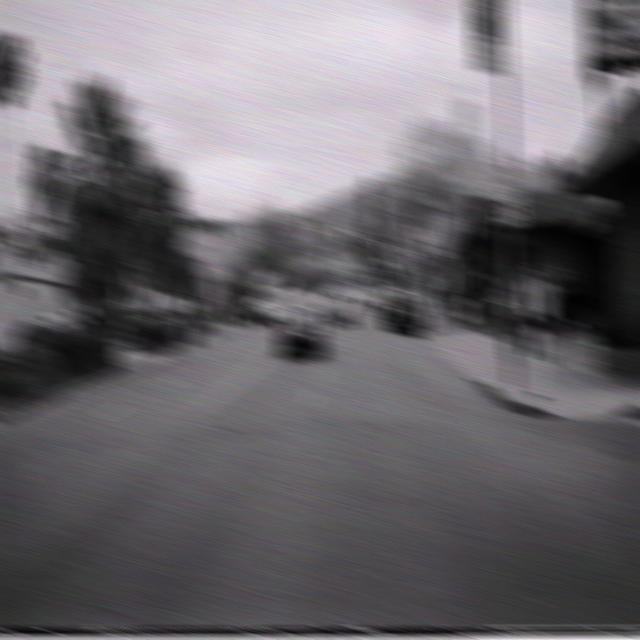speedLimit25: (494, 170, 524, 228)
